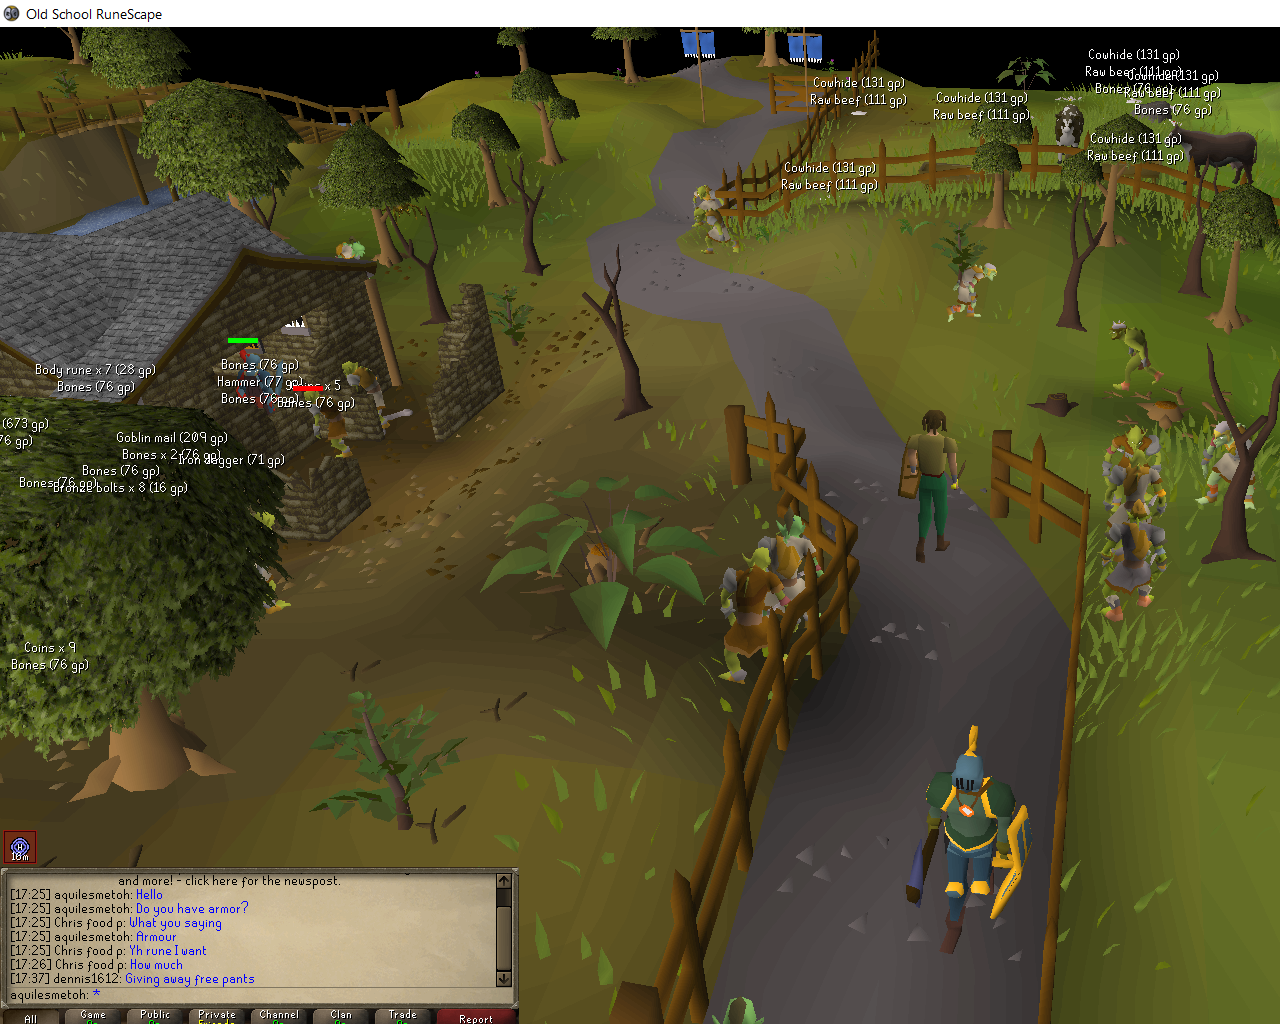Goblin: (711, 542, 787, 685), (750, 509, 838, 633), (1095, 498, 1178, 625), (1194, 414, 1262, 515), (1104, 450, 1169, 544), (1098, 426, 1167, 510), (1102, 316, 1167, 395), (340, 358, 398, 433), (299, 387, 356, 460), (938, 257, 997, 327), (692, 206, 751, 256), (706, 996, 778, 1024), (689, 184, 729, 230)
